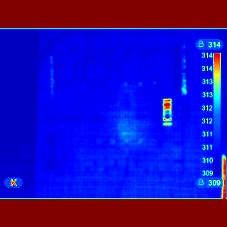Medium: (155, 97, 181, 130)
